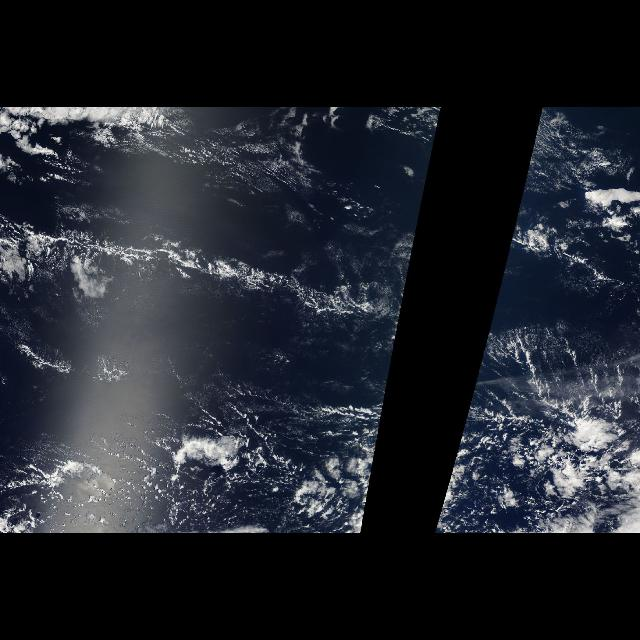Fish: (5, 202, 399, 326)
Gravel: (34, 386, 342, 526)
Sugar: (107, 108, 383, 340)
